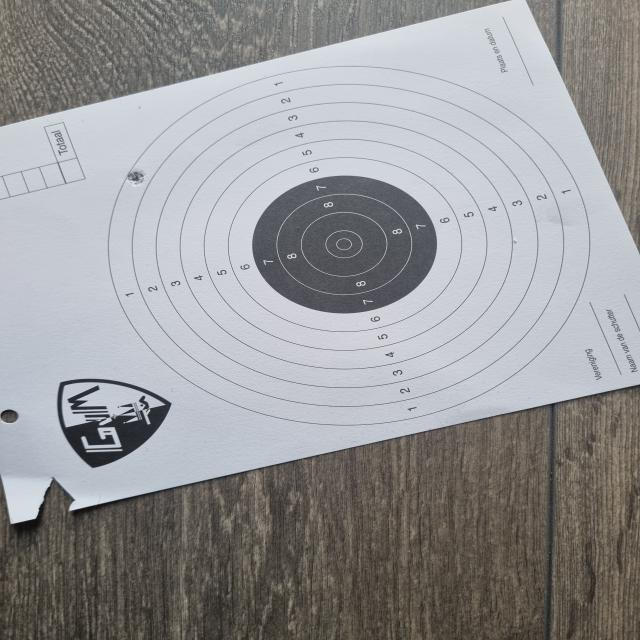1: (124, 170, 152, 188)
Target: (105, 66, 596, 428)
black_contour: (255, 173, 436, 312)
